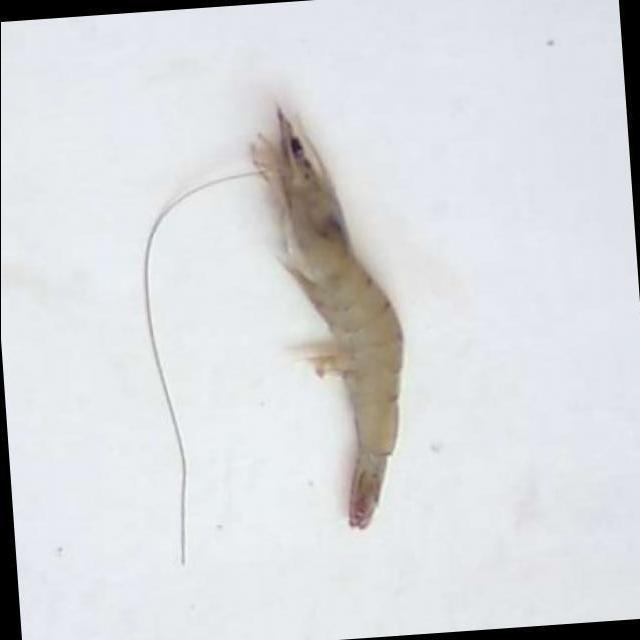shrimp: (252, 107, 402, 528)
